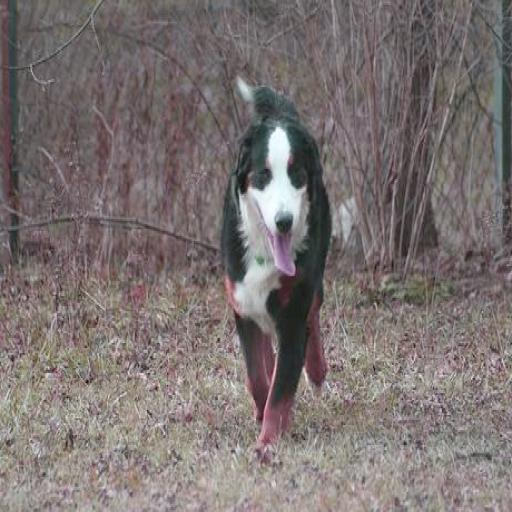dog_face: (224, 116, 322, 247)
